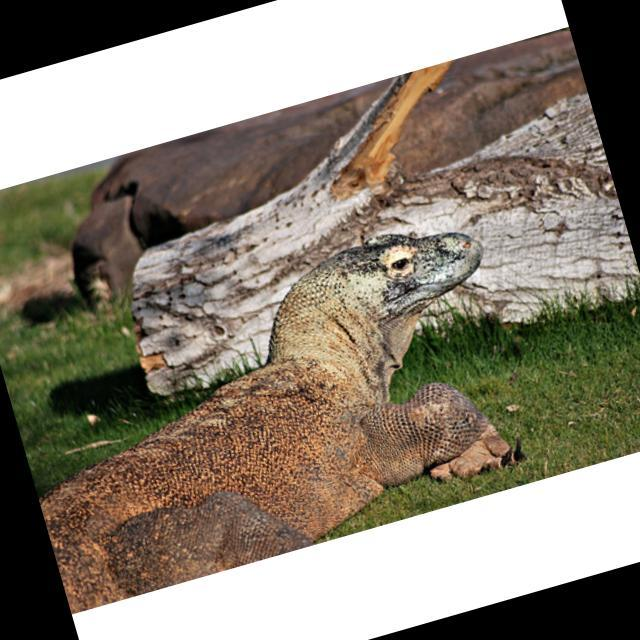KomodoDragon: (0, 208, 549, 610)
